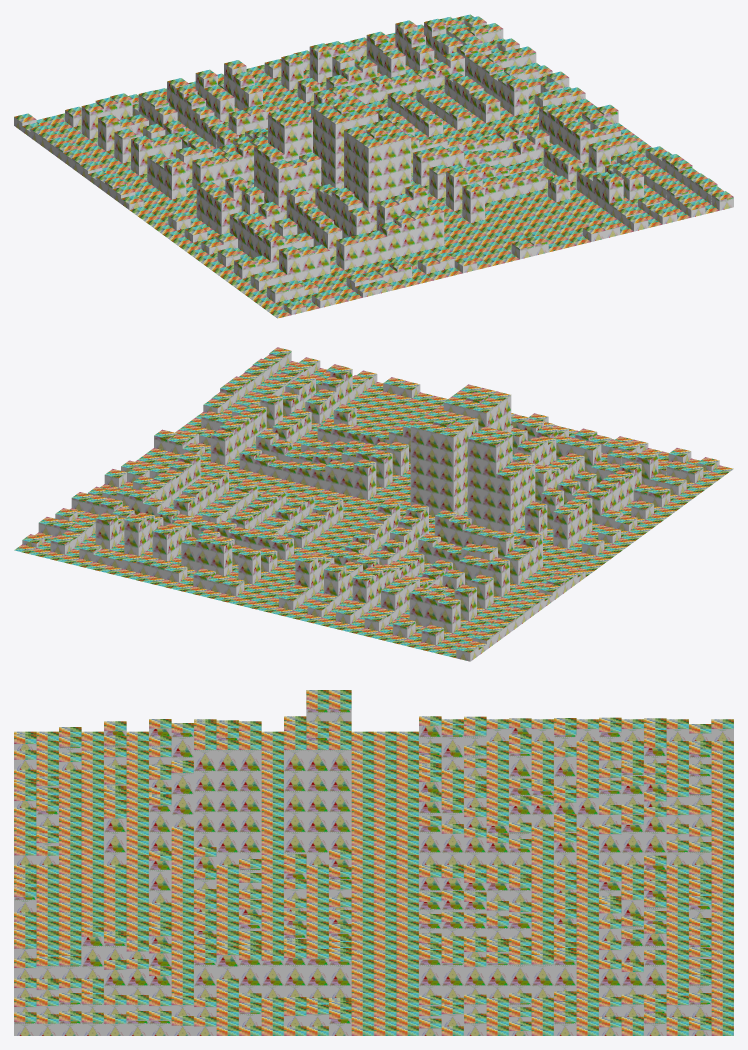
The model's file is CityWColors.gltf.
The picture shows the model from 3 angles, top to bottom: view 1: azimuth 30°, elevation 25°; view 2: azimuth 150°, elevation 25°; view 3: azimuth 270°, elevation 25°; orthographic projection. The views are drawn at different scales.
Parts seen in each view (by area): view 1: Cube; view 2: Cube; view 3: Cube.
Boxes of the visible parts, x1,y1,x2,y2 form: Cube: (14, 14, 733, 318); Cube: (14, 347, 733, 661); Cube: (14, 690, 733, 1035).
Bounding box in the file's own units: 32 × 5.76 × 32.
3 materials, 2 textured.
